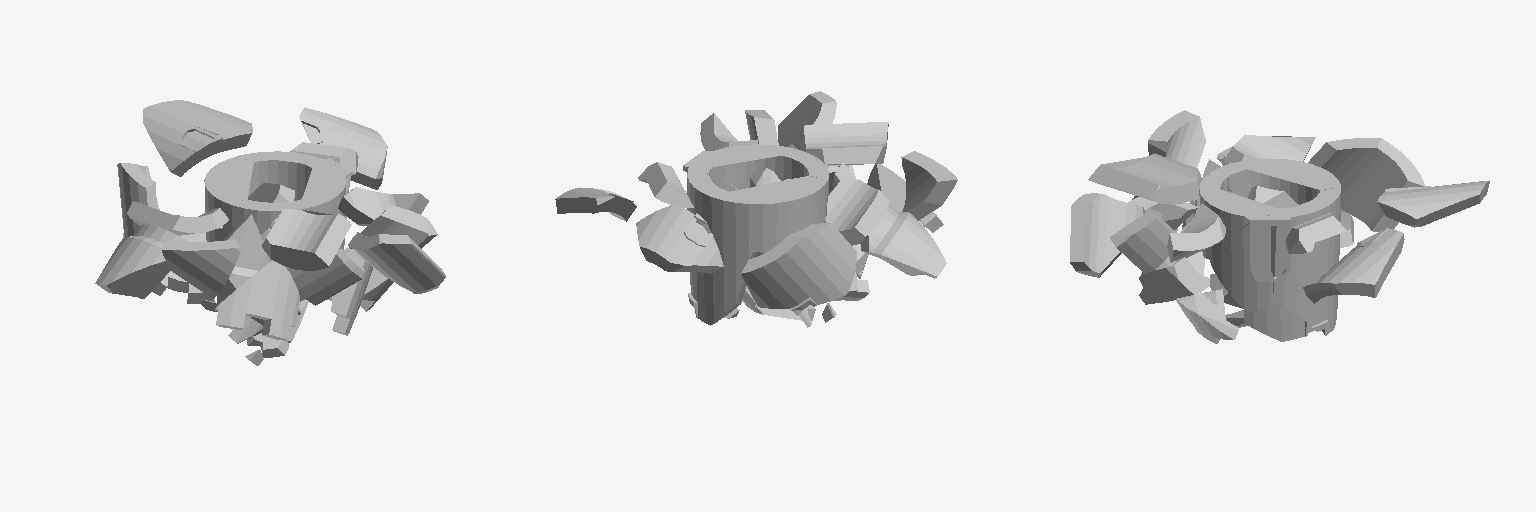
File: destruction_tower_000053.obj
3 views of the same model, side by side, from view 1: azimuth 30°, elevation 25°; view 2: azimuth 150°, elevation 25°; view 3: azimuth 270°, elevation 25° (orthographic).
Visible parts, largest first — view 1: tower.001_cell.025_Mesh.025, tower.001_cell.006_Mesh.006, tower.001_cell.024_Mesh.024, tower.001_cell.005_Mesh.005, tower.001_cell.021_Mesh.021, tower.001_cell.012_Mesh.012, tower.001_cell.002_Mesh.002, tower.001_cell.015_Mesh.015, tower.001_cell.011_Mesh.011, tower.001_cell.013_Mesh.013, tower.001_cell.010_Mesh.010, tower.001_cell.028_Mesh.028 (+13 smaller); view 2: tower.001_cell.003_Mesh.003, tower.001_cell.017_Mesh.017, tower.001_cell.015_Mesh.015, tower.001_cell.025_Mesh.025, tower.001_cell.005_Mesh.005, tower.001_cell.024_Mesh.024, tower.001_cell.028_Mesh.028, tower.001_cell.009_Mesh.009, tower.001_cell.002_Mesh.002, tower.001_cell.021_Mesh.021, tower.001_cell.012_Mesh.012, tower.001_cell.016_Mesh.016 (+5 smaller); view 3: tower.001_cell.003_Mesh.003, tower.001_cell.020_Mesh.020, tower.001_cell.021_Mesh.021, tower.001_cell.017_Mesh.017, tower.001_cell.024_Mesh.024, tower.001_cell.012_Mesh.012, tower.001_cell.025_Mesh.025, tower.001_cell.015_Mesh.015, tower.001_cell_Mesh, tower.001_cell.028_Mesh.028, tower.001_cell.023_Mesh.023, tower.001_cell.002_Mesh.002 (+9 smaller).
Boxes of the visible parts, x1=… form: tower.001_cell.025_Mesh.025: x1=143, y1=100, x2=252, y2=176; tower.001_cell.006_Mesh.006: x1=215, y1=260, x2=299, y2=340; tower.001_cell.024_Mesh.024: x1=262, y1=209, x2=351, y2=270; tower.001_cell.005_Mesh.005: x1=95, y1=224, x2=187, y2=298; tower.001_cell.021_Mesh.021: x1=348, y1=232, x2=445, y2=293; tower.001_cell.012_Mesh.012: x1=299, y1=107, x2=387, y2=189; tower.001_cell.002_Mesh.002: x1=161, y1=239, x2=240, y2=298; tower.001_cell.015_Mesh.015: x1=204, y1=156, x2=253, y2=241; tower.001_cell.011_Mesh.011: x1=285, y1=249, x2=364, y2=305; tower.001_cell.013_Mesh.013: x1=201, y1=214, x2=269, y2=311; tower.001_cell.010_Mesh.010: x1=338, y1=187, x2=428, y2=225; tower.001_cell.028_Mesh.028: x1=272, y1=168, x2=350, y2=218; tower.001_cell.003_Mesh.003: x1=741, y1=223, x2=856, y2=310; tower.001_cell.017_Mesh.017: x1=687, y1=170, x2=756, y2=325; tower.001_cell.015_Mesh.015: x1=726, y1=176, x2=827, y2=252; tower.001_cell.025_Mesh.025: x1=636, y1=204, x2=723, y2=273; tower.001_cell.005_Mesh.005: x1=861, y1=204, x2=946, y2=278; tower.001_cell.024_Mesh.024: x1=801, y1=122, x2=888, y2=167; tower.001_cell.028_Mesh.028: x1=703, y1=144, x2=817, y2=189; tower.001_cell.009_Mesh.009: x1=825, y1=179, x2=889, y2=245; tower.001_cell.002_Mesh.002: x1=901, y1=151, x2=957, y2=220; tower.001_cell.021_Mesh.021: x1=778, y1=91, x2=836, y2=150; tower.001_cell.012_Mesh.012: x1=555, y1=187, x2=636, y2=221; tower.001_cell.016_Mesh.016: x1=638, y1=162, x2=693, y2=207; tower.001_cell.003_Mesh.003: x1=1308, y1=138, x2=1424, y2=231; tower.001_cell.020_Mesh.020: x1=1210, y1=215, x2=1276, y2=312; tower.001_cell.021_Mesh.021: x1=1070, y1=193, x2=1144, y2=277; tower.001_cell.017_Mesh.017: x1=1296, y1=187, x2=1340, y2=335; tower.001_cell.024_Mesh.024: x1=1088, y1=153, x2=1202, y2=204; tower.001_cell.012_Mesh.012: x1=1303, y1=227, x2=1404, y2=303; tower.001_cell.025_Mesh.025: x1=1377, y1=181, x2=1489, y2=227; tower.001_cell.015_Mesh.015: x1=1248, y1=158, x2=1340, y2=204; tower.001_cell_Mesh: x1=1110, y1=211, x2=1182, y2=273; tower.001_cell.028_Mesh.028: x1=1199, y1=174, x2=1277, y2=259; tower.001_cell.023_Mesh.023: x1=1139, y1=251, x2=1210, y2=304; tower.001_cell.002_Mesh.002: x1=1148, y1=110, x2=1205, y2=167.
Bounding box in the file's own units: 115 × 54.15 × 127.